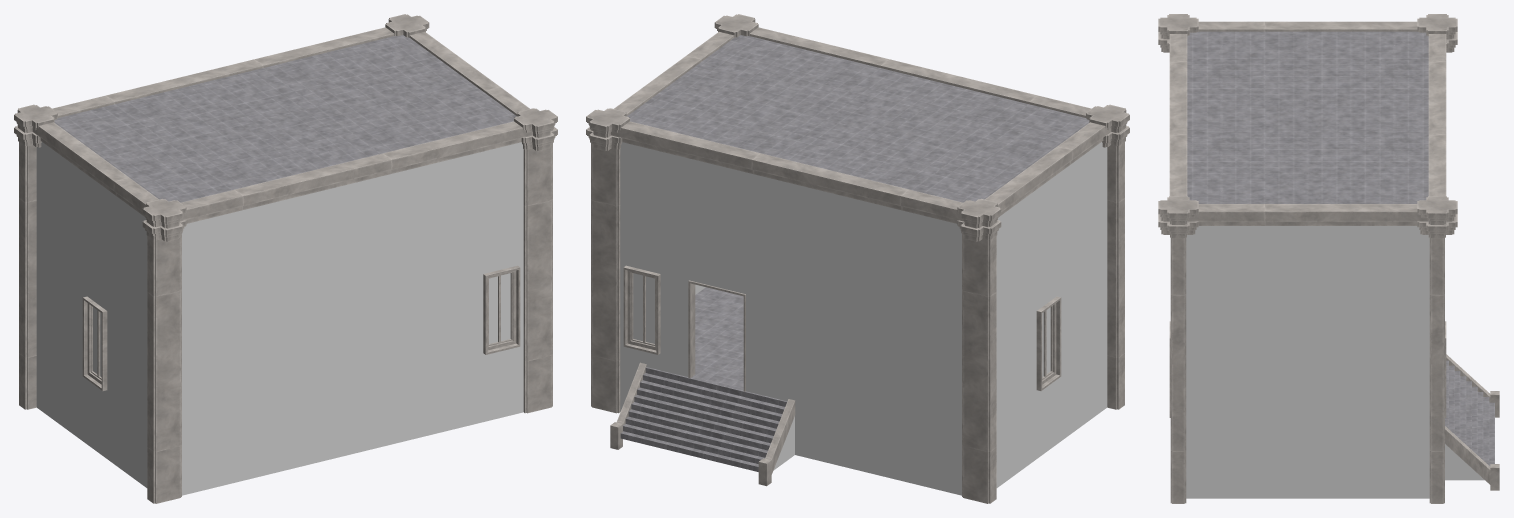
File: Structure_E.fbx
3 views of the same model, side by side, from view 1: azimuth 30°, elevation 25°; view 2: azimuth 150°, elevation 25°; view 3: azimuth 270°, elevation 25° (orthographic).
Visible parts, largest first — view 1: Structure_E; view 2: Structure_E; view 3: Structure_E.
Boxes of the visible parts, x1,y1,x2,y2 form: Structure_E: [14, 14, 557, 503]; Structure_E: [586, 14, 1129, 503]; Structure_E: [1158, 14, 1499, 503].
Size of the model in its own units: 16.4 by 11.87 by 11.58.
